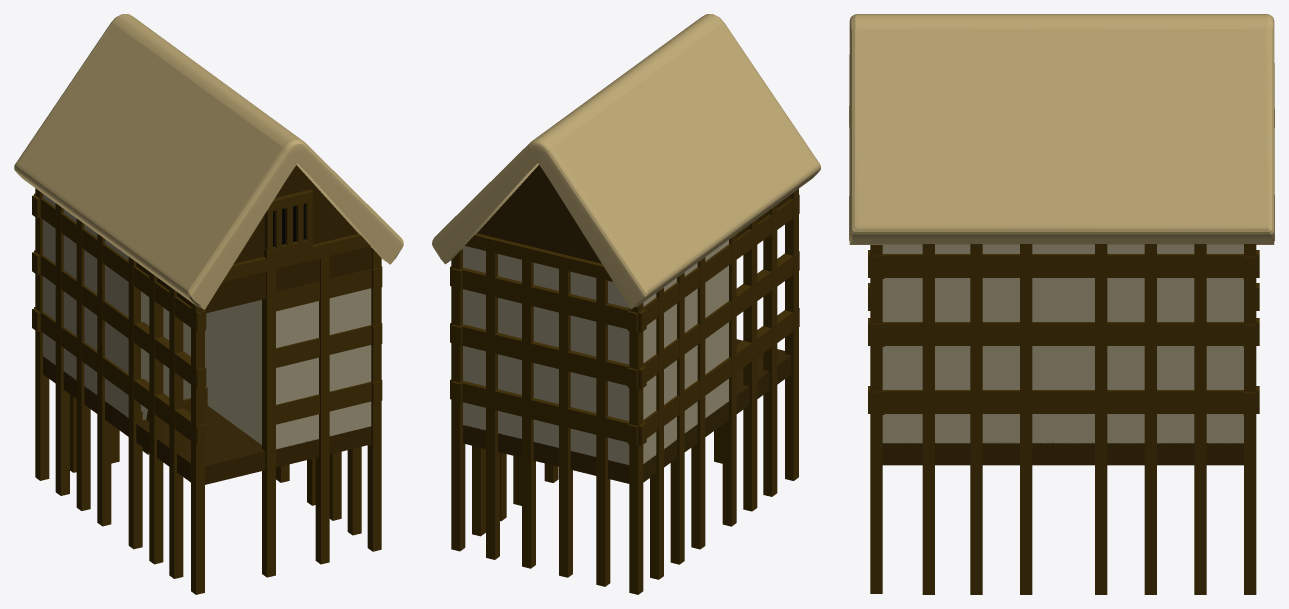
The model's file is House.fbx.
3 renders of one model, left to right at view 1: azimuth 30°, elevation 25°; view 2: azimuth 150°, elevation 25°; view 3: azimuth 270°, elevation 25°, orthographic. The views are drawn at different scales.
Parts seen in each view (by area): view 1: House; view 2: House; view 3: House.
Boxes of the visible parts, left/top/right/bottom form: House: left=14, top=14, right=403, bottom=594; House: left=432, top=14, right=820, bottom=594; House: left=849, top=14, right=1274, bottom=594.
Bounding box in the file's own units: 11.96 × 23.15 × 17.05.
